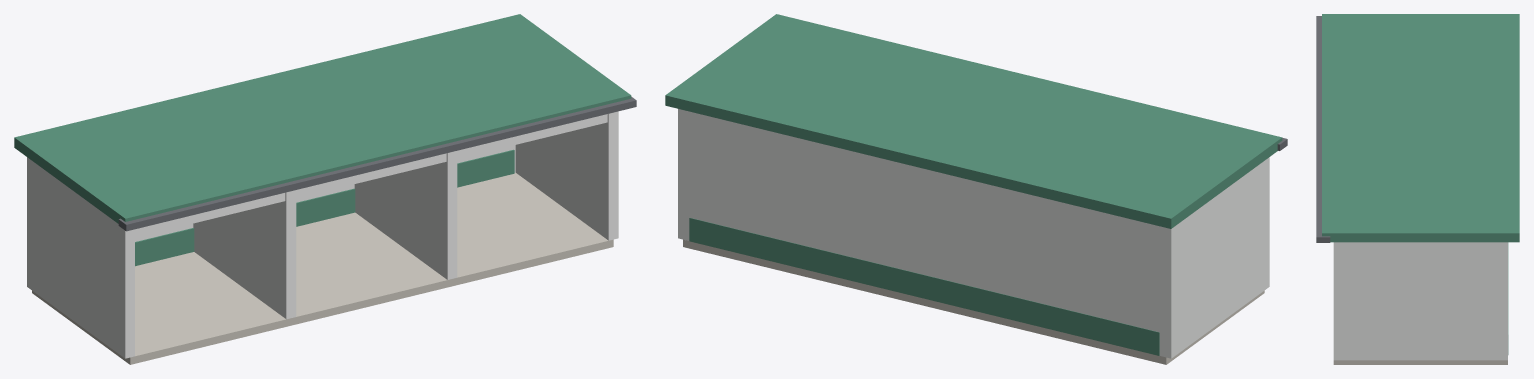
Rendered from racecourse-and-parade-ring-saddling-box-run-70c86c2f__38616.glb.
3 views of the same model, side by side, from view 1: azimuth 30°, elevation 25°; view 2: azimuth 150°, elevation 25°; view 3: azimuth 270°, elevation 25° (orthographic). The views are drawn at different scales.
Visible parts, largest first — view 1: saddling-box-run; view 2: saddling-box-run; view 3: saddling-box-run.
Part boxes in pixels (x1,y1,x2,y2): saddling-box-run: (14,14,636,364); saddling-box-run: (665,14,1287,364); saddling-box-run: (1316,14,1519,364).
Size of the model in its own units: 11.4 by 3.28 by 4.42.
